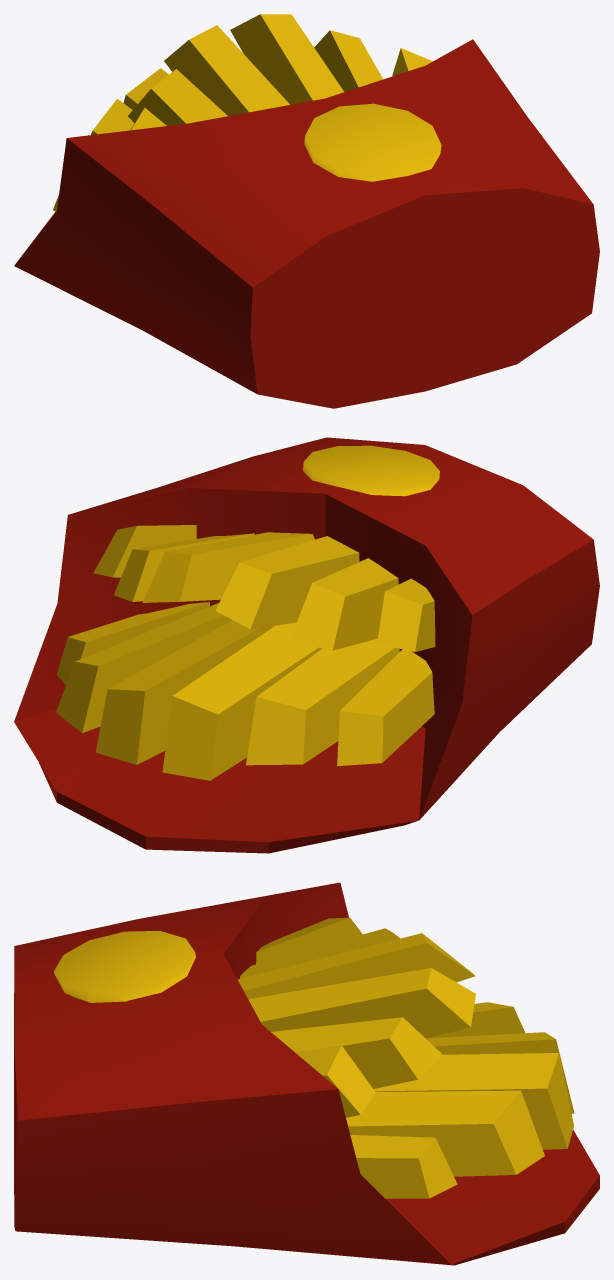
Rendered from rl_fries_3.fbx.
3 views of the same model, one above another, from view 1: azimuth 30°, elevation 25°; view 2: azimuth 150°, elevation 25°; view 3: azimuth 270°, elevation 25° (orthographic). The views are drawn at different scales.
Visible parts, largest first — view 1: box, fries, label; view 2: box, fries, label; view 3: box, fries, label.
Part boxes in pixels (box(x1,y1,x2,y2)): box: box(14, 39, 599, 408); fries: box(53, 14, 432, 211); label: box(304, 103, 441, 181); box: box(14, 437, 599, 853); fries: box(56, 525, 435, 780); label: box(303, 445, 439, 496); box: box(14, 882, 599, 1265); fries: box(238, 917, 574, 1198); label: box(54, 931, 195, 1002).
Size of the model in its own units: 146 by 79.46 by 175.
